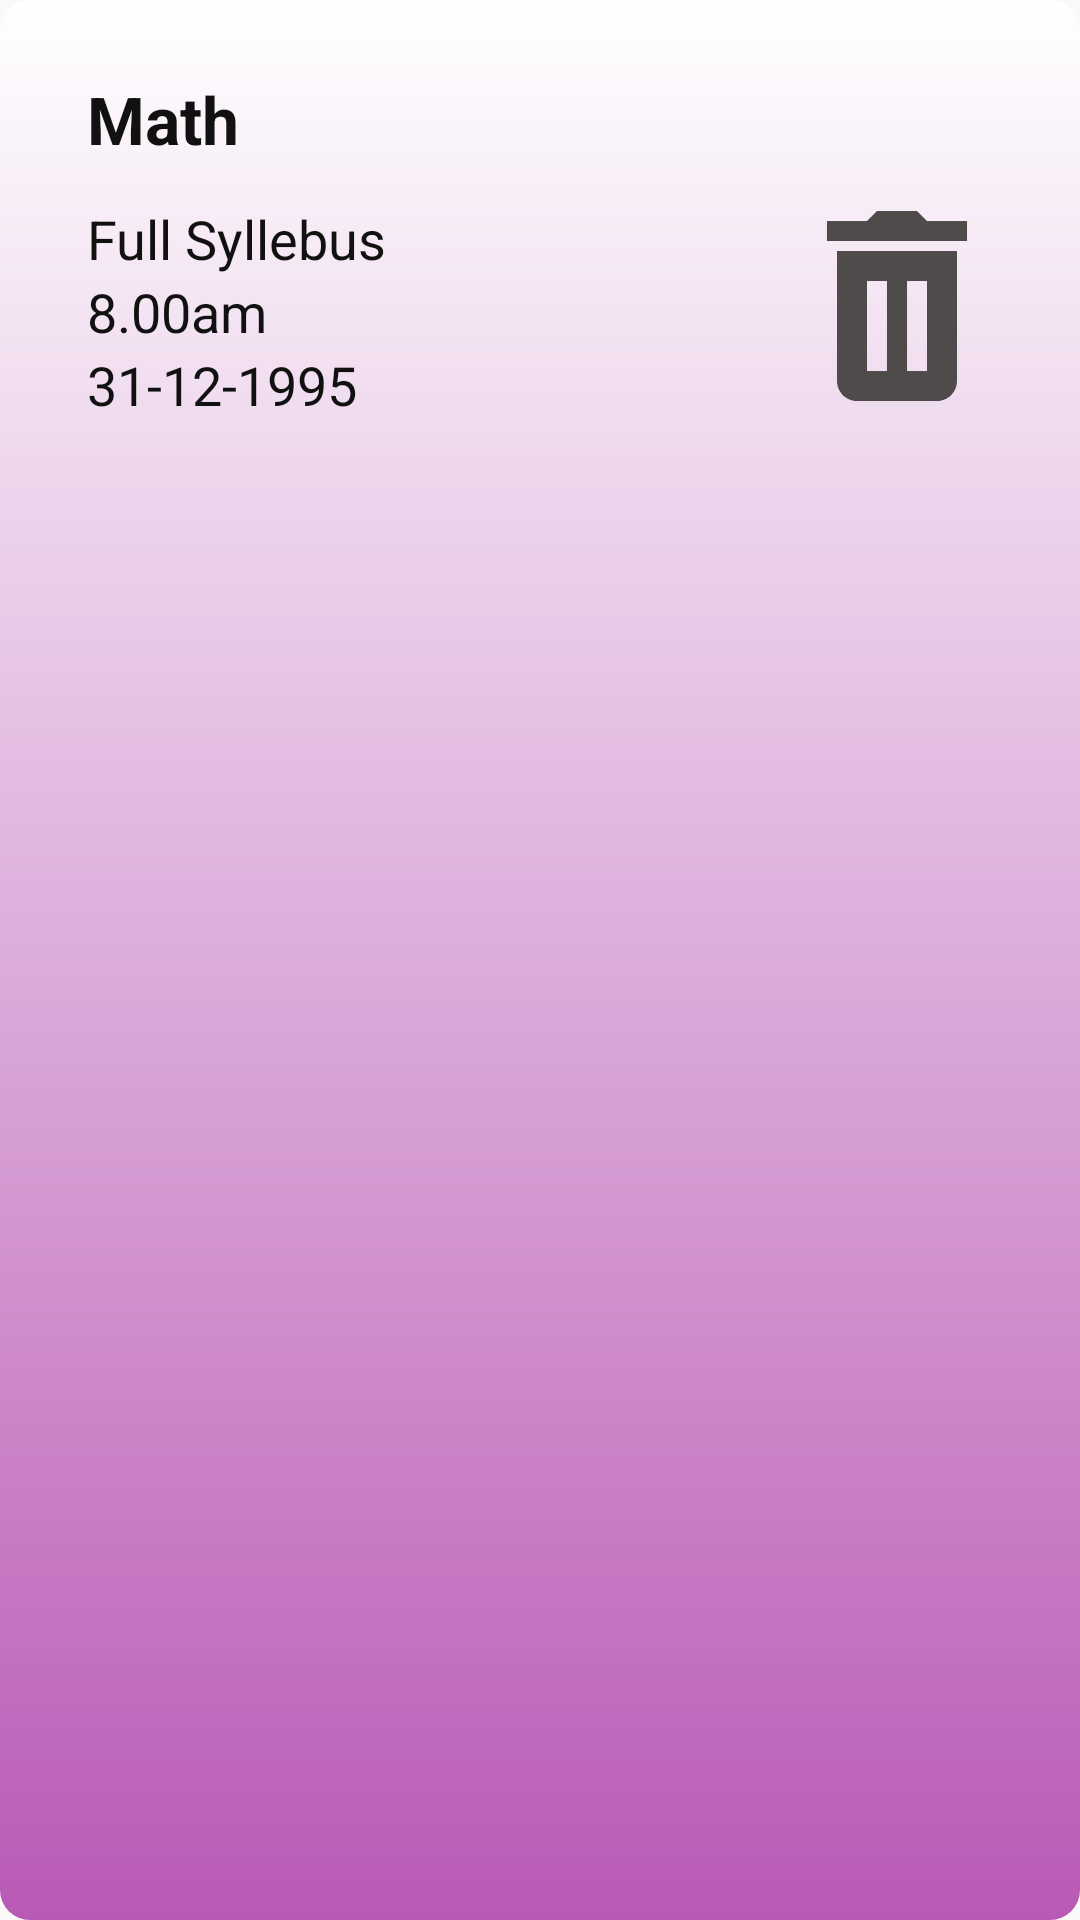

Screen size 1080 x 1920. Icon name, then its box in pixels as Rect(x1, y1, x2, y2):
delete: Rect(827, 211, 967, 401)
